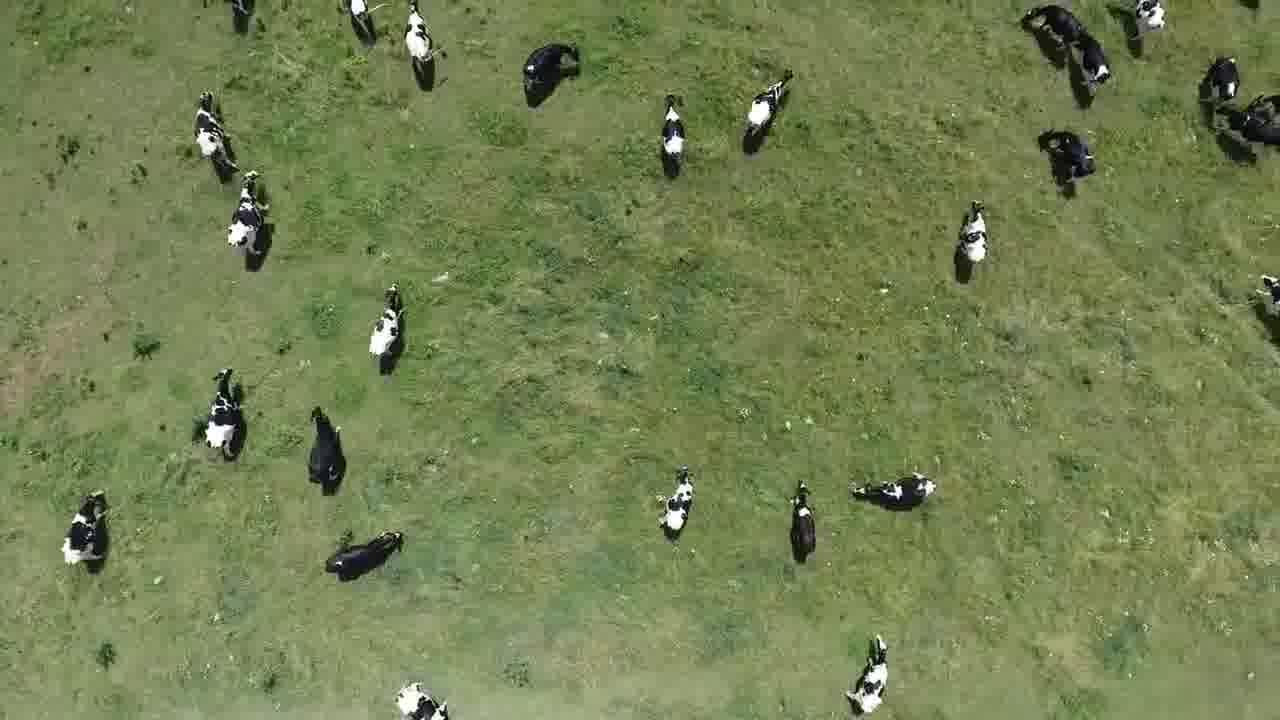cow: (195, 364, 251, 465), (299, 402, 352, 497), (324, 525, 408, 583), (226, 165, 274, 263), (741, 65, 799, 146), (56, 488, 113, 570), (843, 628, 895, 716), (851, 468, 939, 517), (365, 279, 411, 370), (519, 35, 584, 99), (190, 86, 236, 168), (1040, 127, 1100, 186), (786, 474, 823, 567), (951, 194, 990, 281), (654, 461, 697, 537), (402, 0, 444, 77), (654, 91, 693, 170), (1068, 30, 1118, 90), (1018, 1, 1084, 44), (389, 676, 451, 720), (1197, 53, 1241, 111), (337, 0, 388, 45), (1123, 0, 1168, 45)
